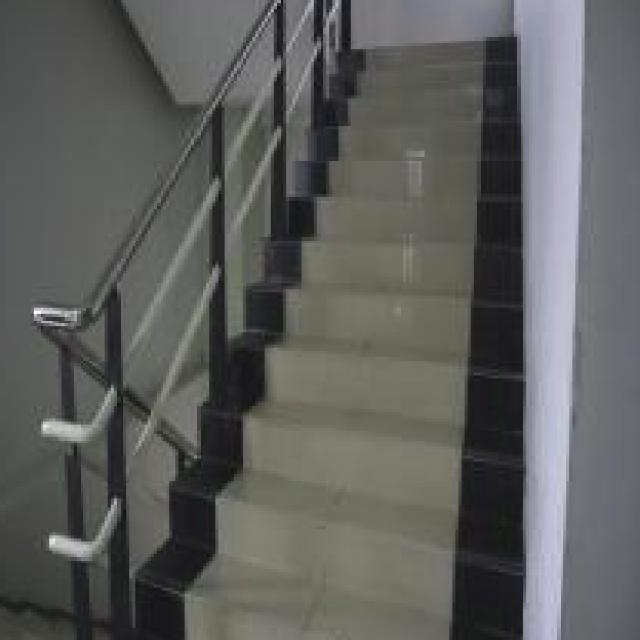upstair: (253, 309, 515, 629)
